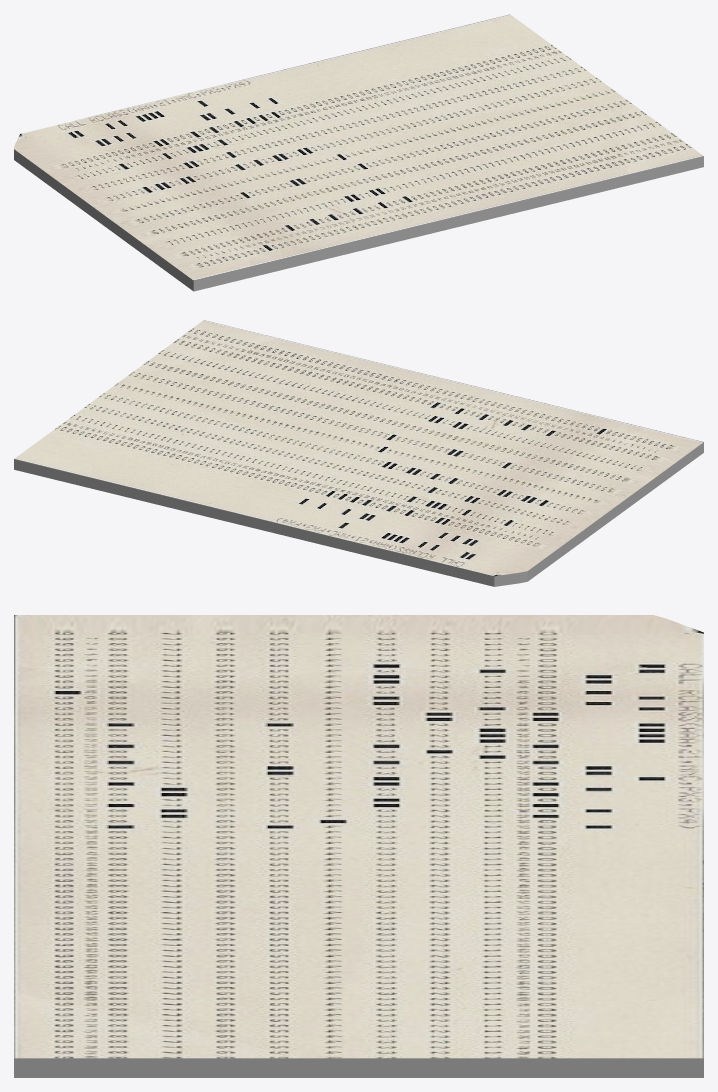
File: Carte_Perforée.glb
3 views of the same model, one above another, from view 1: azimuth 30°, elevation 25°; view 2: azimuth 150°, elevation 25°; view 3: azimuth 270°, elevation 25° (orthographic). The views are drawn at different scales.
Visible parts, largest first — view 1: Plane.001; view 2: Plane.001; view 3: Plane.001.
Part boxes in pixels (<box>): Plane.001: <box>14,14,703,291</box>; Plane.001: <box>14,320,703,586</box>; Plane.001: <box>14,615,703,1077</box>.
Size of the model in its own units: 0.2587 by 0.00527 by 0.1701.
Materials: 2 (1 with a texture image).
